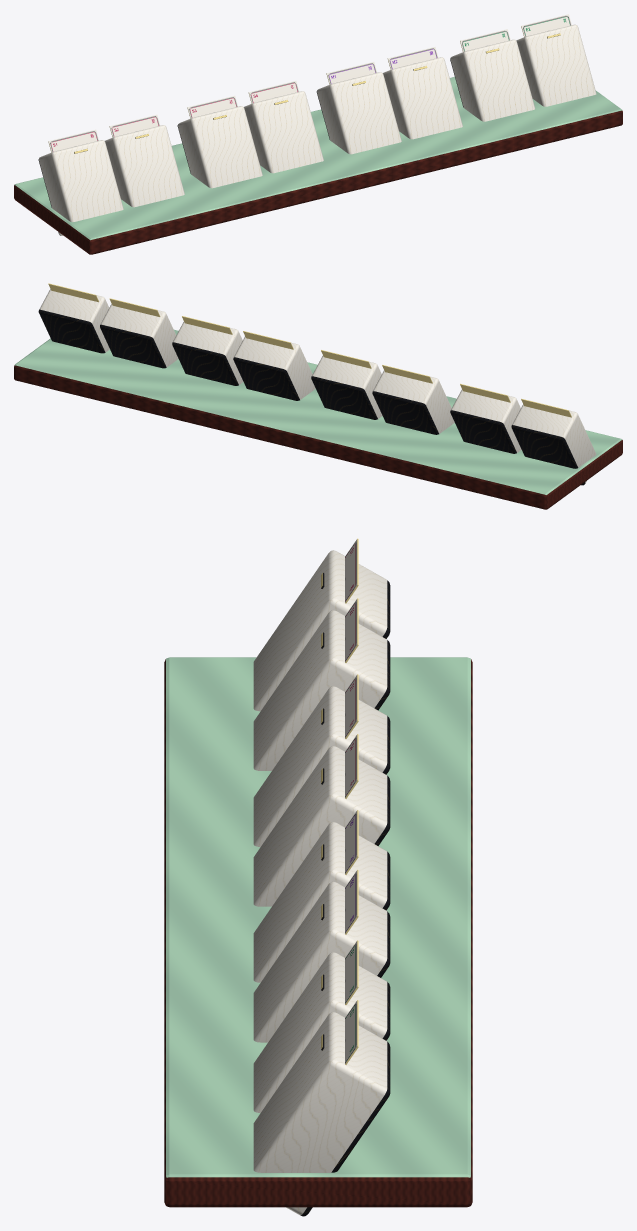
File: tile_coupled_showcase.glb
The picture shows the model from 3 angles, top to bottom: view 1: azimuth 30°, elevation 25°; view 2: azimuth 150°, elevation 25°; view 3: azimuth 270°, elevation 25°; orthographic projection. The views are drawn at different scales.
Parts seen in each view (by area): view 1: Rosewood_Jade_Plinth, Show_coupled_A1_Body_Mesh, Show_coupled_E1_Body_Mesh, Show_coupled_C1_Body_Mesh, Show_coupled_B1_Body_Mesh, Show_coupled_E2_Body_Mesh, Show_coupled_B2_Body_Mesh, Show_coupled_A2_Body_Mesh, Show_coupled_C2_Body_Mesh, Show_coupled_A2_Face_Overlay_Mesh, Show_coupled_A1_Face_Overlay_Mesh, Show_coupled_B1_Face_Overlay_Mesh (+5 smaller); view 2: Rosewood_Jade_Plinth, Show_coupled_A1_Body_Mesh, Show_coupled_C1_Body_Mesh, Show_coupled_B1_Body_Mesh, Show_coupled_E1_Body_Mesh, Show_coupled_A2_Body_Mesh, Show_coupled_B2_Body_Mesh, Show_coupled_E2_Body_Mesh, Show_coupled_C2_Body_Mesh, Show_coupled_A2_Face_Overlay_Mesh, Show_coupled_A1_Face_Overlay_Mesh, Show_coupled_C1_Face_Overlay_Mesh (+5 smaller); view 3: Rosewood_Jade_Plinth, Show_coupled_E2_Body_Mesh, Show_coupled_B2_Body_Mesh, Show_coupled_A2_Body_Mesh, Show_coupled_C2_Body_Mesh, Show_coupled_C1_Body_Mesh, Show_coupled_A1_Body_Mesh, Show_coupled_E1_Body_Mesh, Show_coupled_B1_Body_Mesh.
Part boxes in pixels (box(x1,y1,x2,y2)): Rosewood_Jade_Plinth: box(14, 77, 622, 254); Show_coupled_A1_Body_Mesh: box(38, 140, 123, 235); Show_coupled_E1_Body_Mesh: box(450, 39, 535, 121); Show_coupled_C1_Body_Mesh: box(316, 72, 401, 154); Show_coupled_B1_Body_Mesh: box(177, 106, 262, 188); Show_coupled_E2_Body_Mesh: box(516, 24, 596, 106); Show_coupled_B2_Body_Mesh: box(244, 91, 323, 173); Show_coupled_A2_Body_Mesh: box(105, 125, 184, 207); Show_coupled_C2_Body_Mesh: box(383, 57, 462, 139); Show_coupled_A2_Face_Overlay_Mesh: box(109, 114, 160, 137); Show_coupled_A1_Face_Overlay_Mesh: box(48, 129, 98, 152); Show_coupled_B1_Face_Overlay_Mesh: box(187, 95, 237, 118); Rosewood_Jade_Plinth: box(14, 329, 622, 509); Show_coupled_A1_Body_Mesh: box(511, 404, 596, 485); Show_coupled_C1_Body_Mesh: box(233, 336, 315, 400); Show_coupled_B1_Body_Mesh: box(372, 370, 454, 434); Show_coupled_E1_Body_Mesh: box(100, 304, 178, 368); Show_coupled_A2_Body_Mesh: box(450, 389, 521, 453); Show_coupled_B2_Body_Mesh: box(311, 356, 382, 419); Show_coupled_E2_Body_Mesh: box(38, 289, 109, 353); Show_coupled_C2_Body_Mesh: box(172, 322, 243, 385); Show_coupled_A2_Face_Overlay_Mesh: box(460, 383, 510, 402); Show_coupled_A1_Face_Overlay_Mesh: box(521, 398, 571, 417); Show_coupled_C1_Face_Overlay_Mesh: box(243, 331, 293, 349); Rosewood_Jade_Plinth: box(164, 657, 472, 1207); Show_coupled_E2_Body_Mesh: box(253, 1012, 390, 1216); Show_coupled_B2_Body_Mesh: box(253, 746, 390, 906); Show_coupled_A2_Body_Mesh: box(253, 610, 390, 770); Show_coupled_C2_Body_Mesh: box(253, 881, 390, 1042); Show_coupled_C1_Body_Mesh: box(253, 822, 390, 982); Show_coupled_A1_Body_Mesh: box(253, 550, 390, 711); Show_coupled_E1_Body_Mesh: box(253, 952, 390, 1112); Show_coupled_B1_Body_Mesh: box(253, 686, 390, 846).
Size of the model in its own units: 9.6 by 1.46 by 2.4.
Materials: 34 (26 with a texture image).
